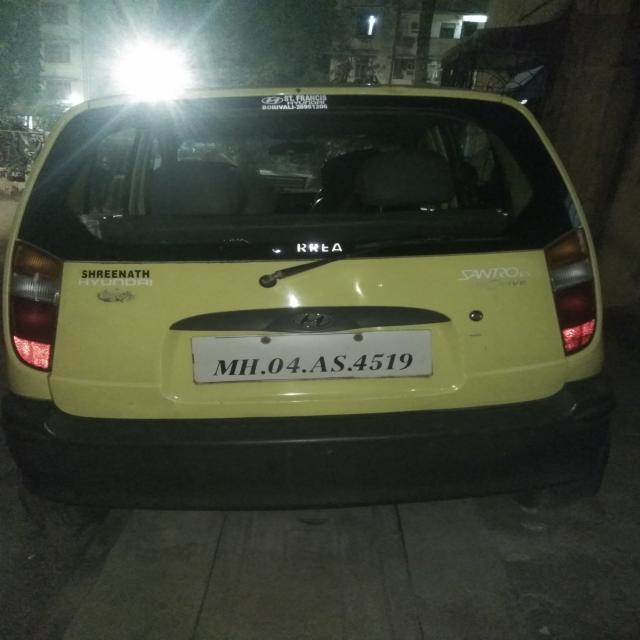Number-Plate: (200, 332, 430, 380)
